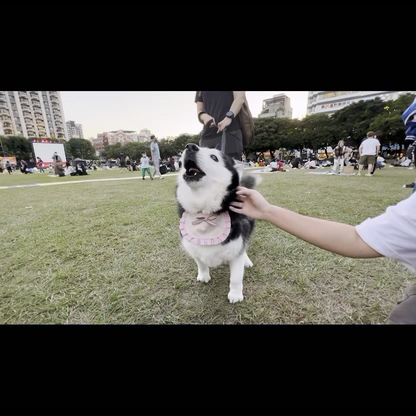husky: (172, 140, 262, 308)
